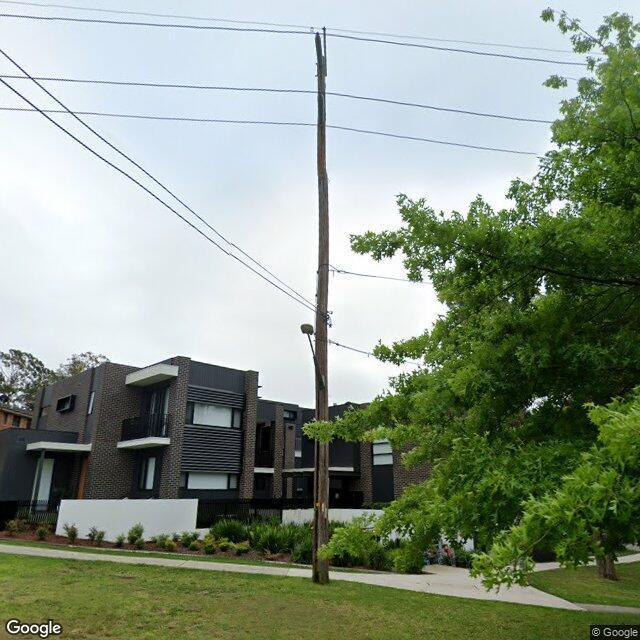streetlight: (300, 324, 325, 388)
timber-pole: (312, 31, 329, 585)
